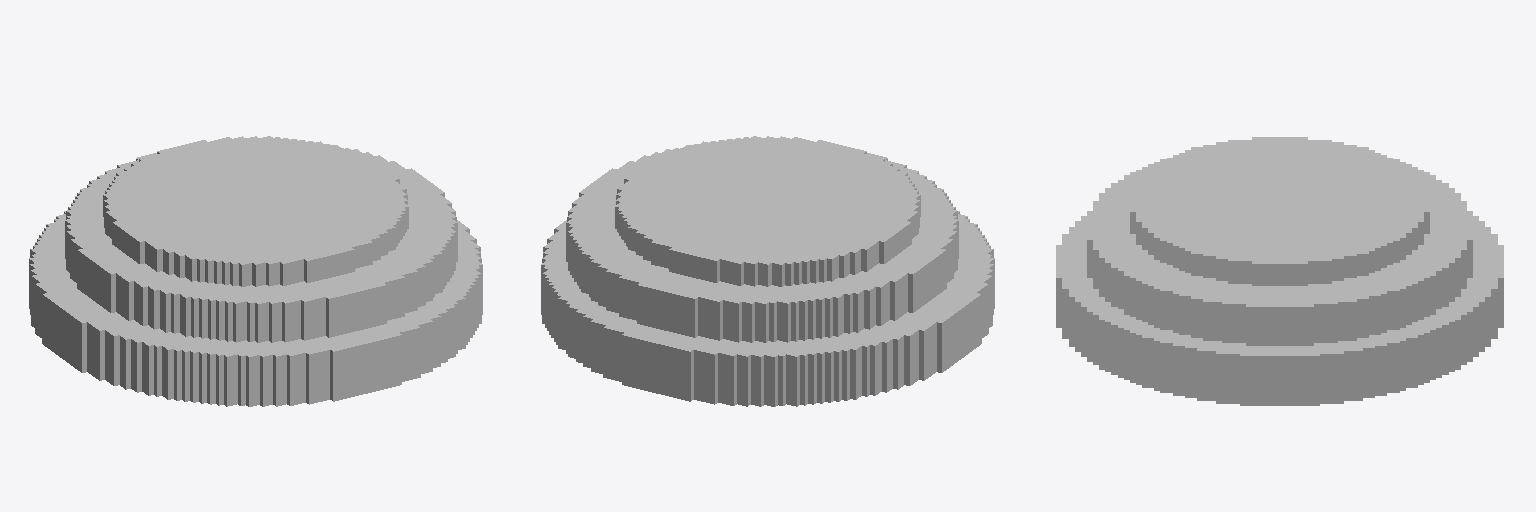
File: sasso medio.obj
The picture shows the model from 3 angles: view 1: azimuth 30°, elevation 25°; view 2: azimuth 150°, elevation 25°; view 3: azimuth 270°, elevation 25°; orthographic projection.
Bounding box in the file's own units: 73 × 20 × 73.